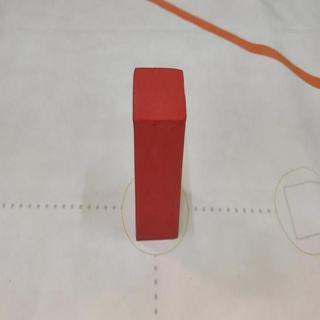redbox: (133, 65, 188, 241)
